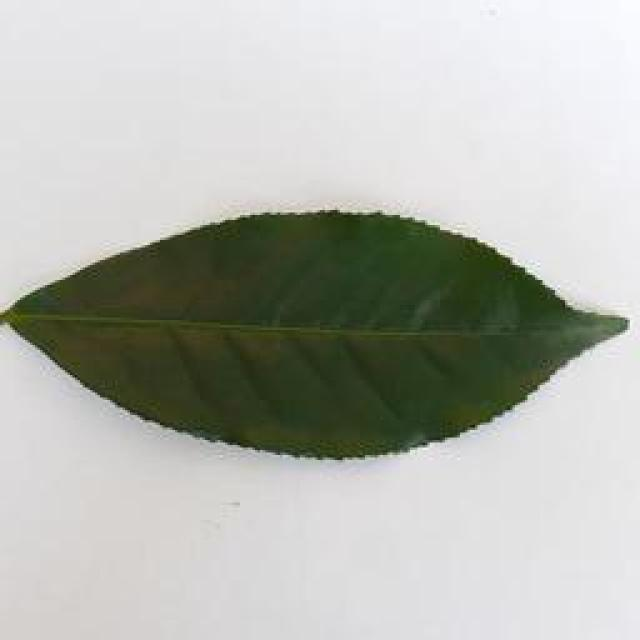Healthy: (0, 201, 640, 464)
